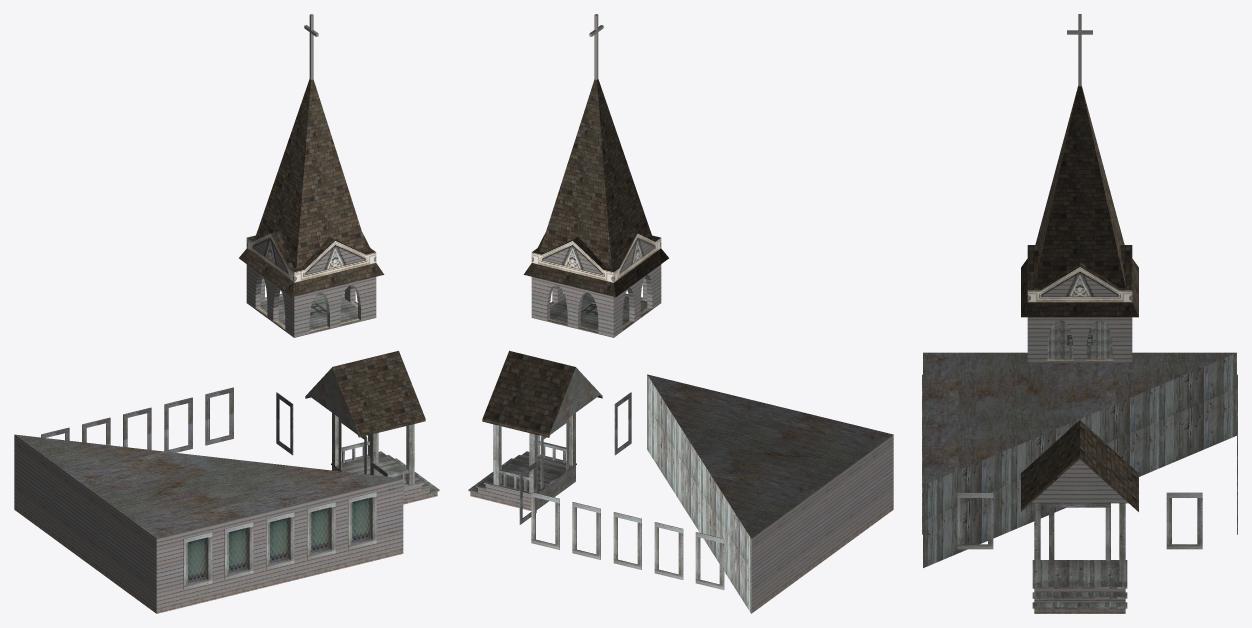
Rendered from westchurch1.fbx.
The picture shows the model from 3 angles, left to right: view 1: azimuth 30°, elevation 25°; view 2: azimuth 150°, elevation 25°; view 3: azimuth 270°, elevation 25°; orthographic projection. The views are drawn at different scales.
Parts seen in each view (by area): view 1: westchurch1; view 2: westchurch1; view 3: westchurch1.
Boxes of the visible parts, x1,y1,x2,y2 form: westchurch1: (14, 14, 439, 613); westchurch1: (468, 14, 893, 613); westchurch1: (922, 14, 1237, 613).
Bounding box in the file's own units: 103600 × 146400 × 77201.
